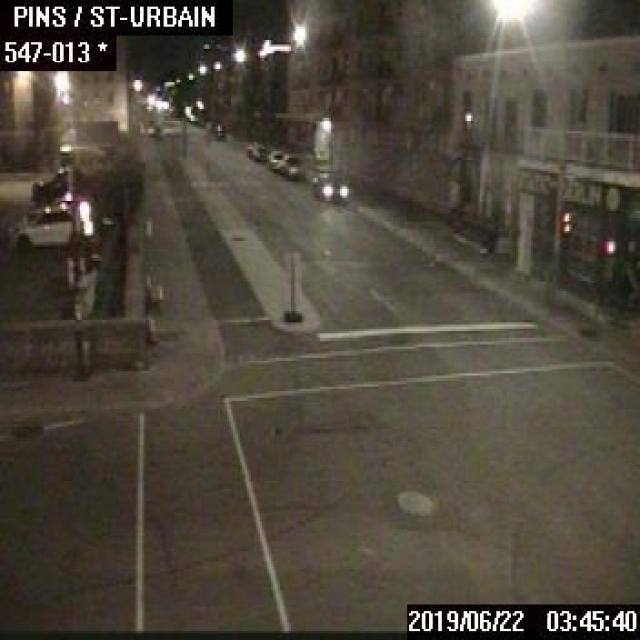vehicle: (12, 203, 72, 249), (26, 194, 81, 217), (29, 170, 66, 203), (310, 170, 348, 200), (279, 151, 305, 176), (266, 148, 285, 170), (245, 140, 265, 159), (213, 122, 225, 136)
